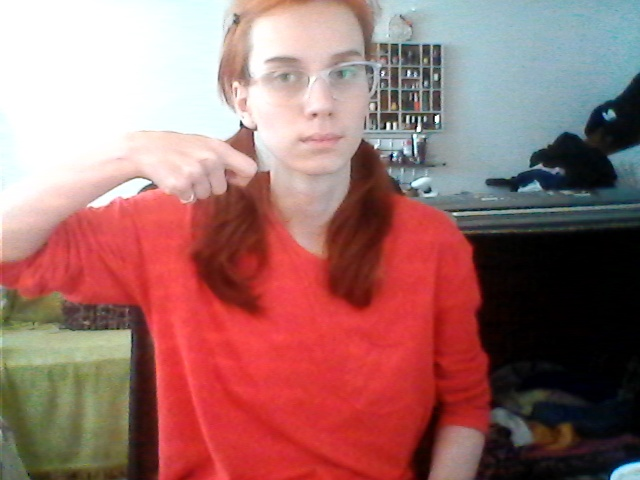jest: (133, 119, 320, 201)
